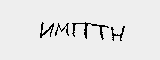И: (39, 19, 54, 42)
М: (54, 21, 70, 41)
Н: (109, 21, 129, 41)
П: (69, 21, 90, 37)
Т: (93, 22, 107, 41)
